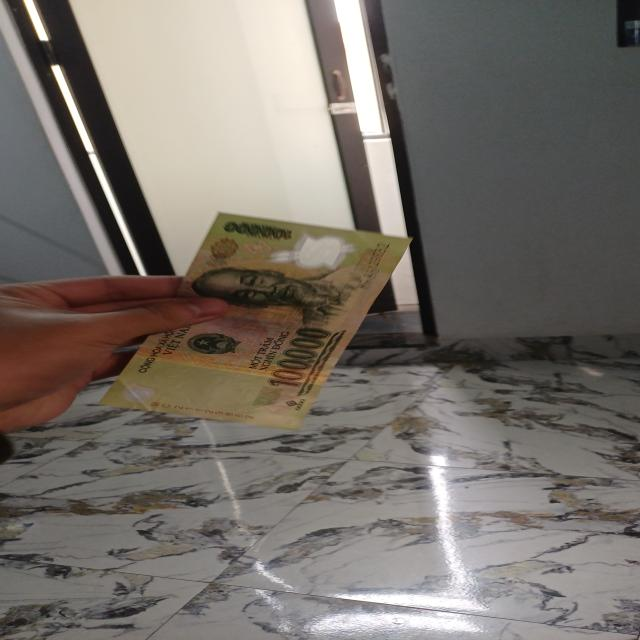100 000 VND: (94, 210, 416, 432)
